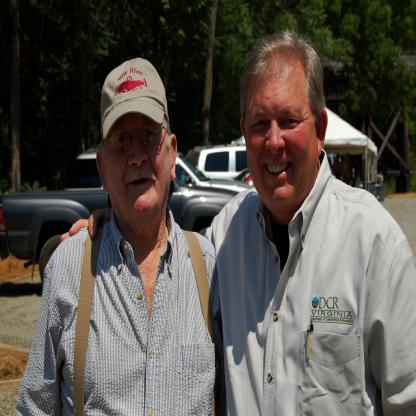Car: (1, 149, 256, 286), (186, 144, 249, 182)
